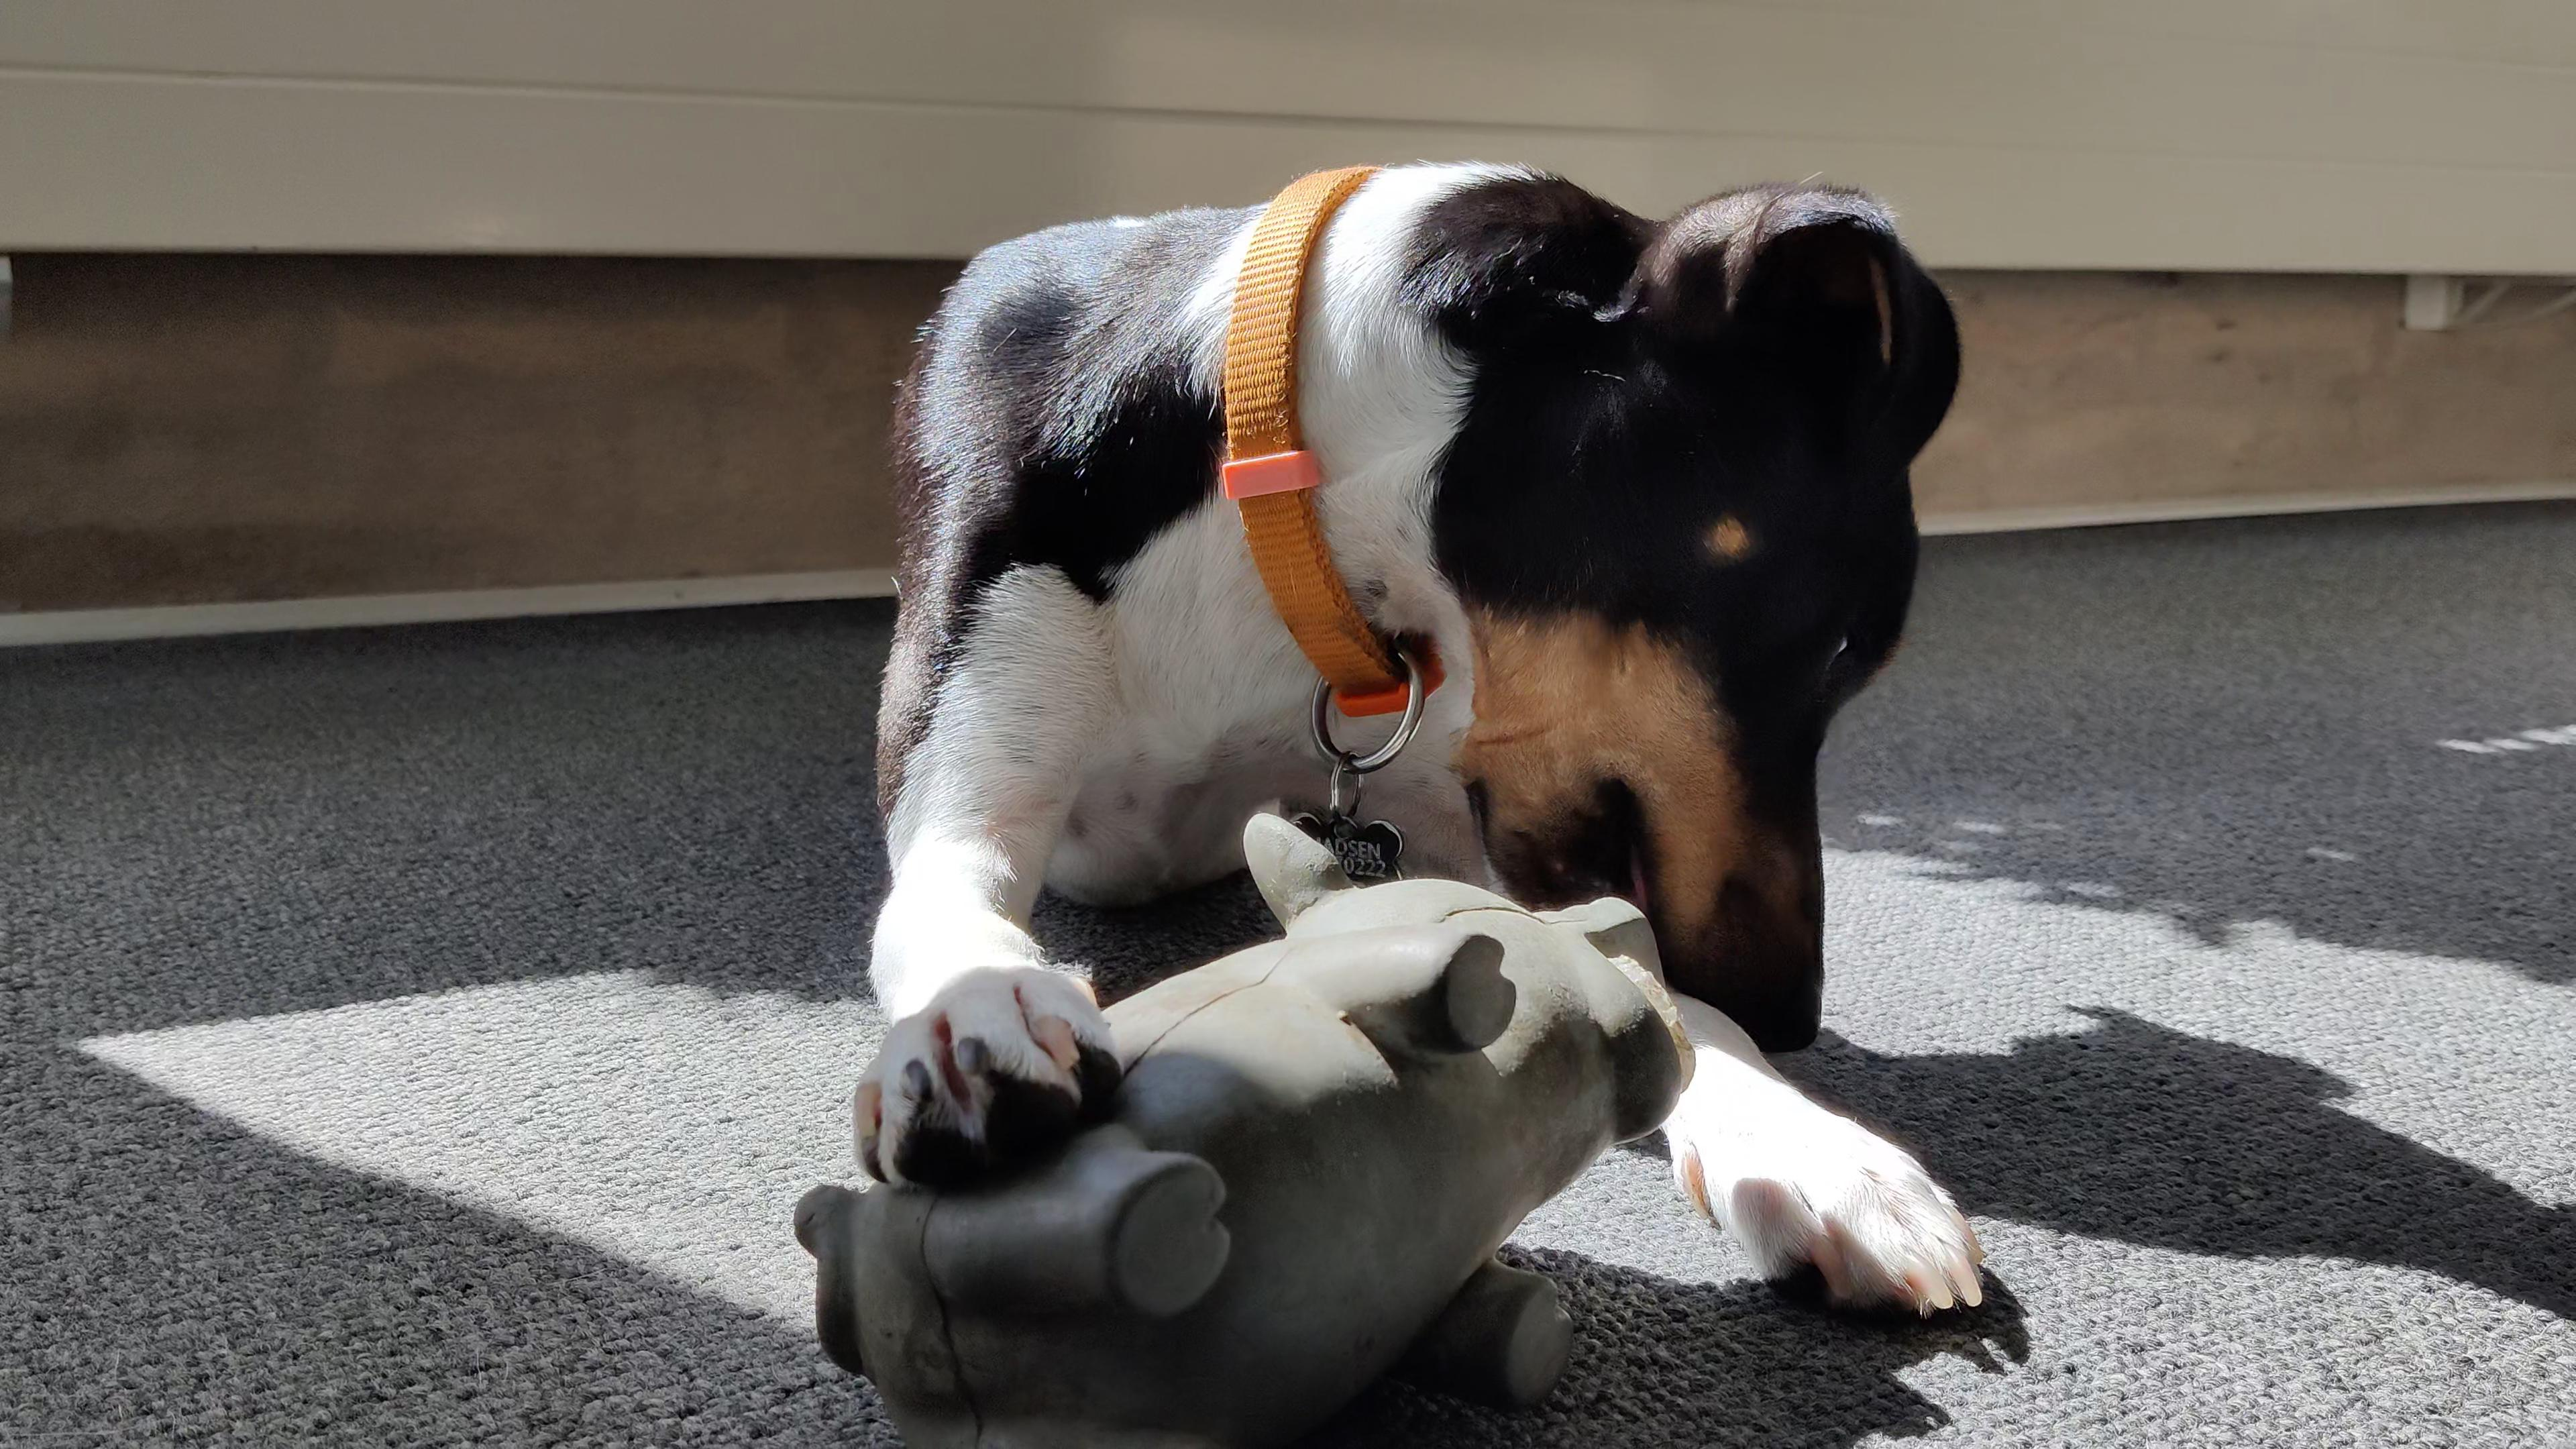Dog: (832, 156, 2022, 1323)
